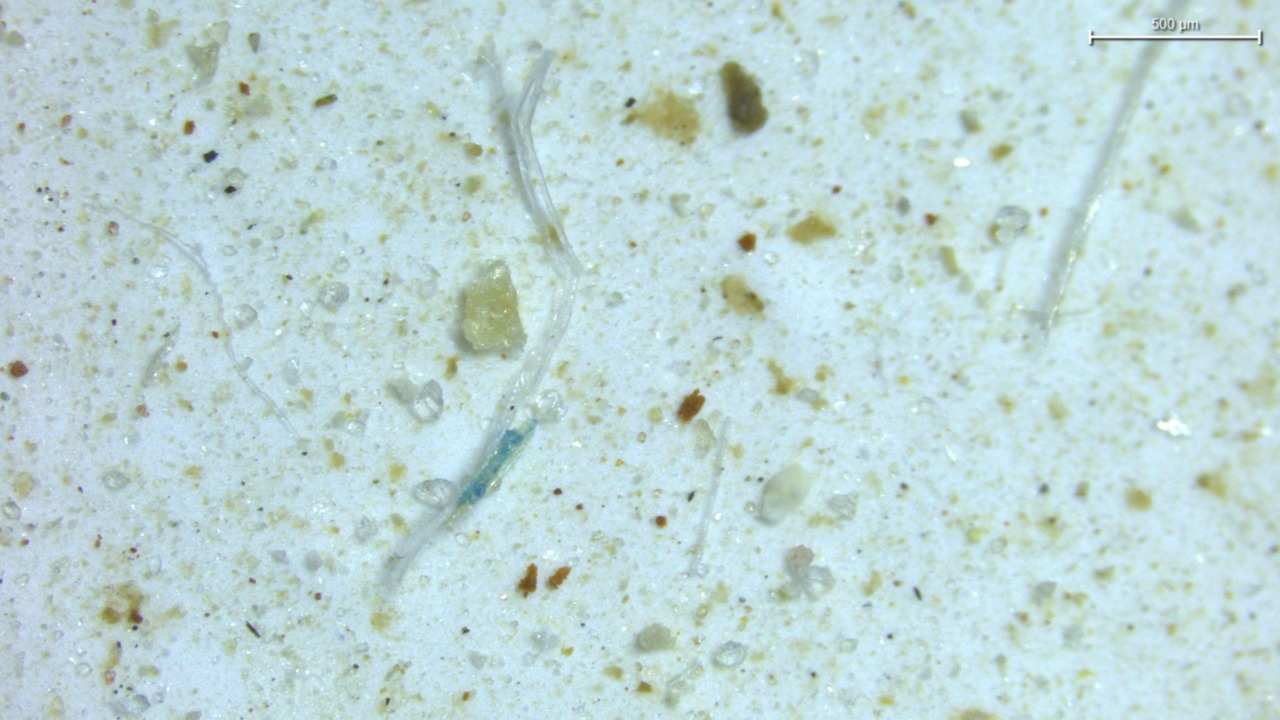microplastic_fragment: (462, 260, 526, 353), (758, 464, 819, 523), (782, 545, 835, 600), (387, 378, 443, 423), (414, 479, 455, 508), (635, 623, 675, 652), (712, 641, 747, 667), (317, 282, 349, 310), (228, 304, 257, 329)
